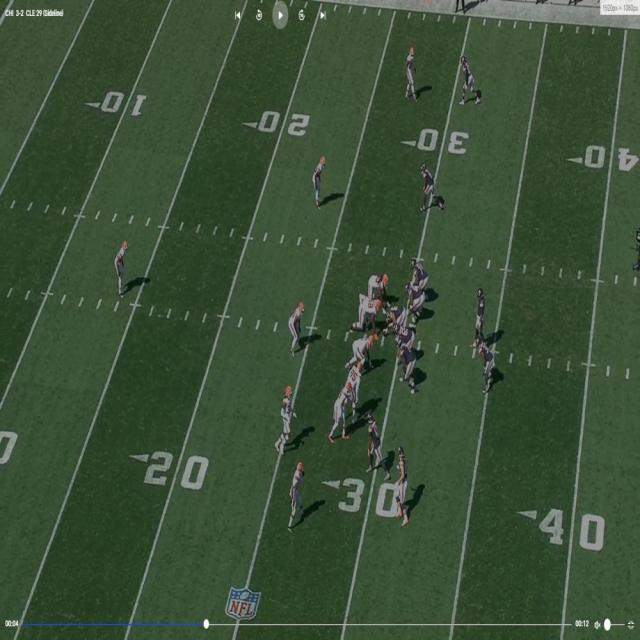center: (386, 303, 404, 332)
db: (291, 466, 305, 526), (404, 43, 417, 97), (315, 158, 328, 207), (114, 239, 127, 286), (282, 384, 292, 443)
lb: (329, 382, 354, 441), (291, 304, 306, 358)
qb: (474, 286, 486, 340)
skill: (366, 419, 387, 479), (396, 448, 412, 518), (462, 55, 481, 108), (422, 164, 439, 212), (479, 339, 494, 392)
